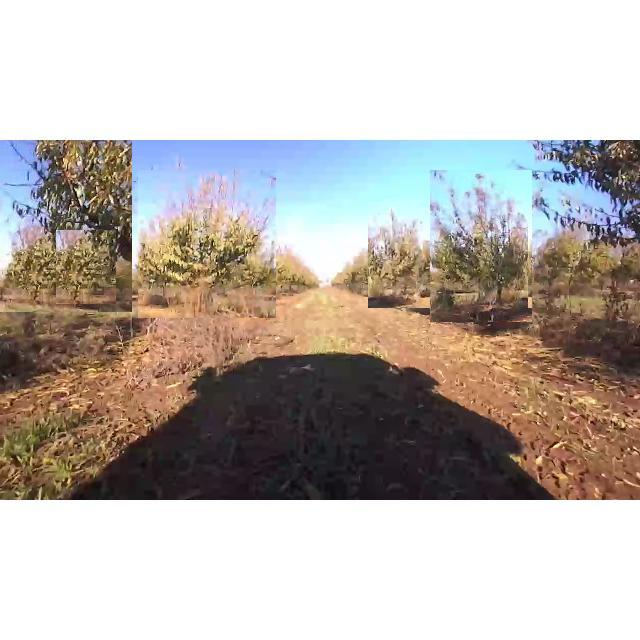direk: (0, 140, 132, 312), (138, 170, 276, 318), (430, 170, 532, 322), (368, 202, 434, 308), (56, 230, 116, 304)
